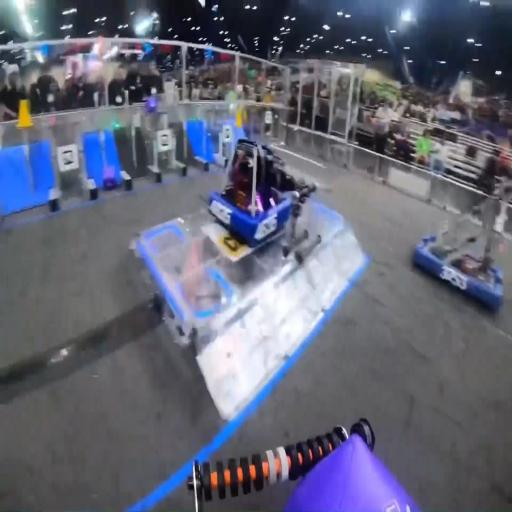robot: (208, 137, 322, 262), (413, 174, 510, 312)
